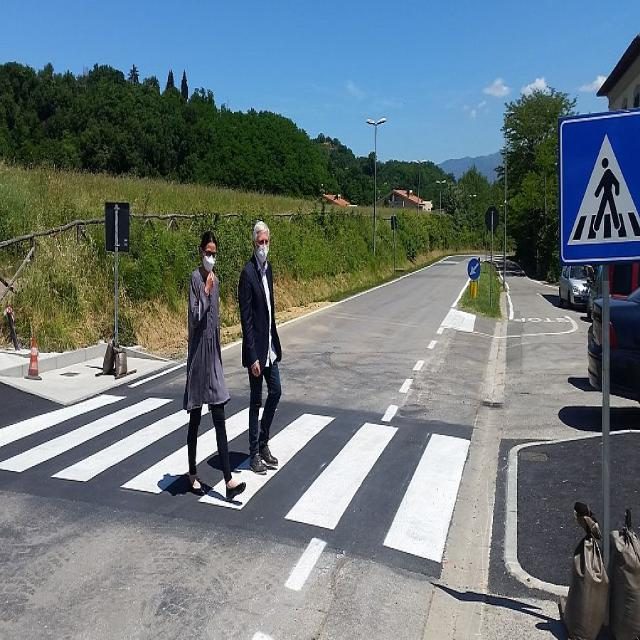Pedestrian crosswalk: (0, 389, 471, 567), (561, 121, 640, 252)
Person: (181, 228, 233, 503), (238, 212, 284, 476)
